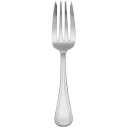fork: (46, 1, 89, 128)
